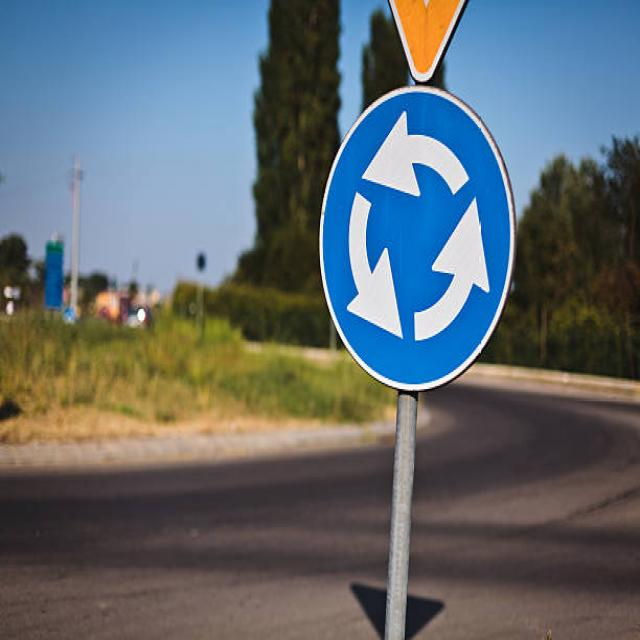round_about: (315, 80, 520, 394)
